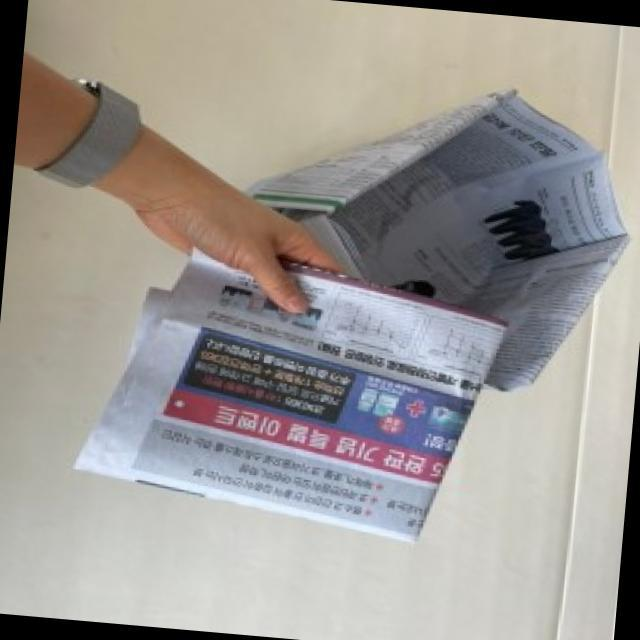reuseable_paper: (233, 64, 632, 392), (69, 261, 515, 547)
